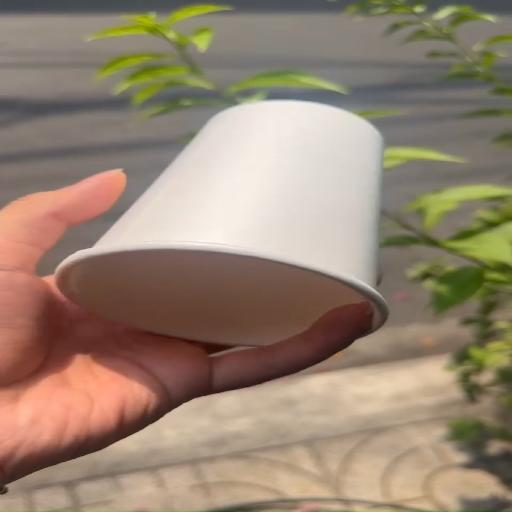ly_giay: (55, 101, 387, 346)
